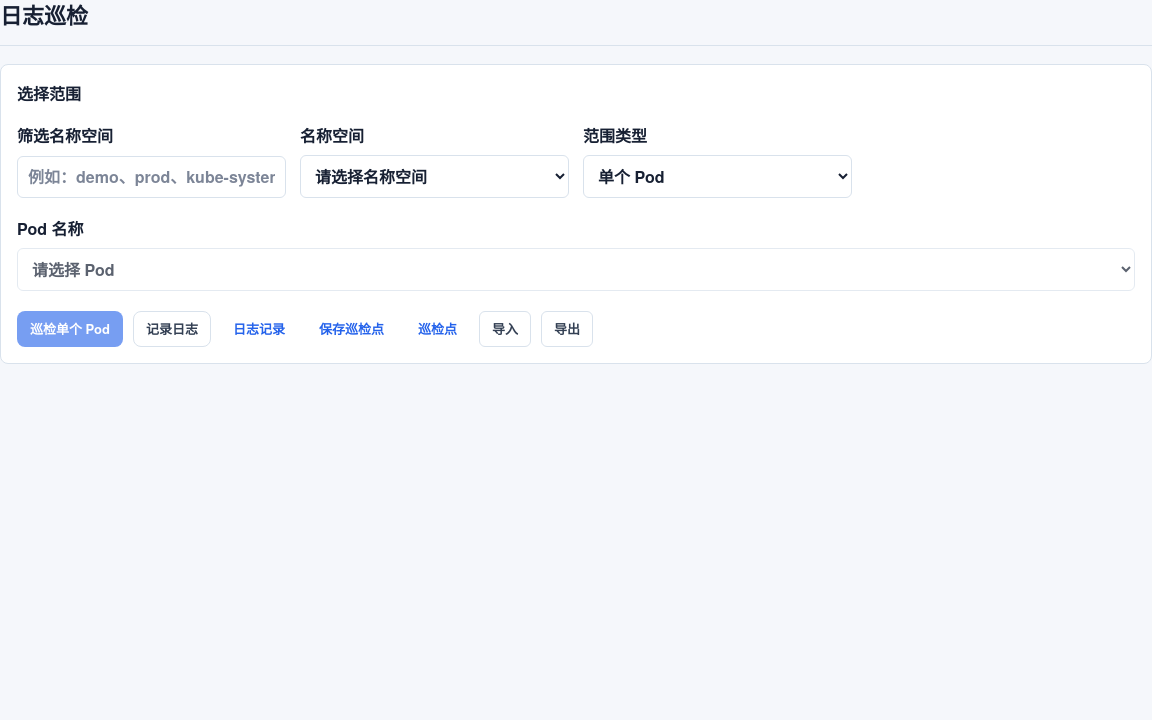
Test: PodInspectionPage › keeps import and export textarea hidden until modal opens
The image size is (1152, 720).
Expected: the field labelled "导出内容" is not shown
Click the button "导出". click: [567, 329]
box: [541,311,593,347]
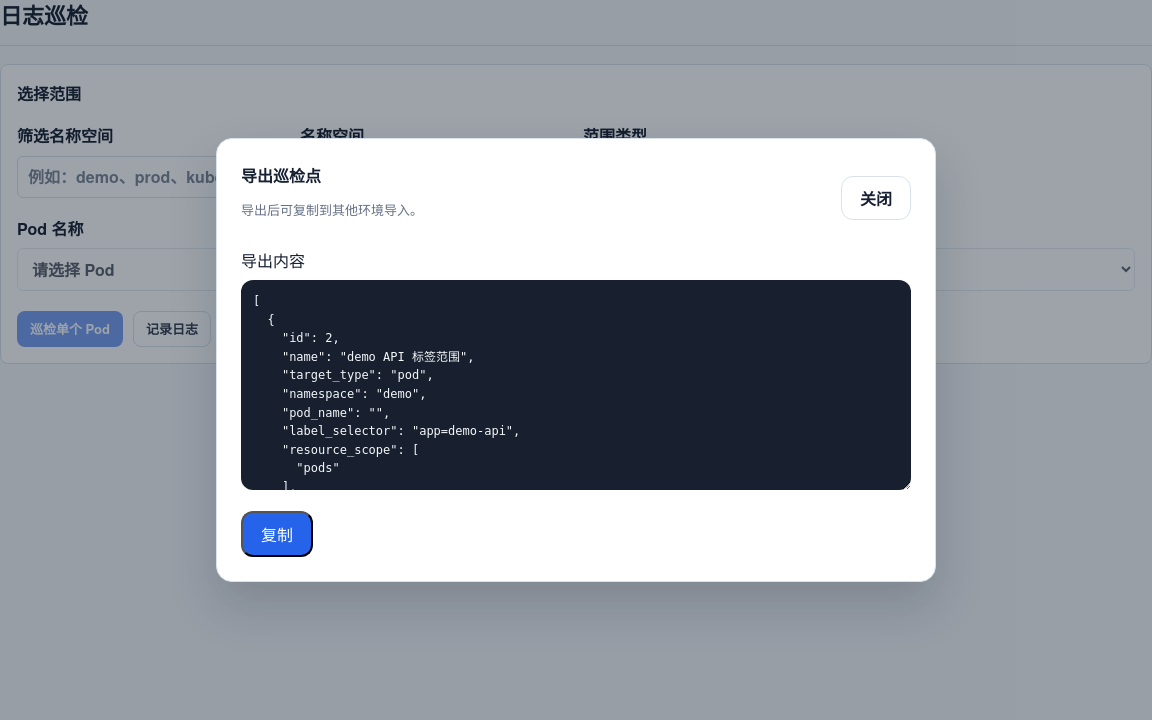
Expected: the dialog "导出巡检点" is shown, [216,138,936,582]
Expected: the text box labelled "导出内容" is shown, [241,280,911,490]
